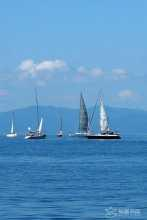fanchuan: (88, 98, 128, 141), (23, 95, 51, 143), (71, 89, 94, 138), (6, 105, 21, 141)
